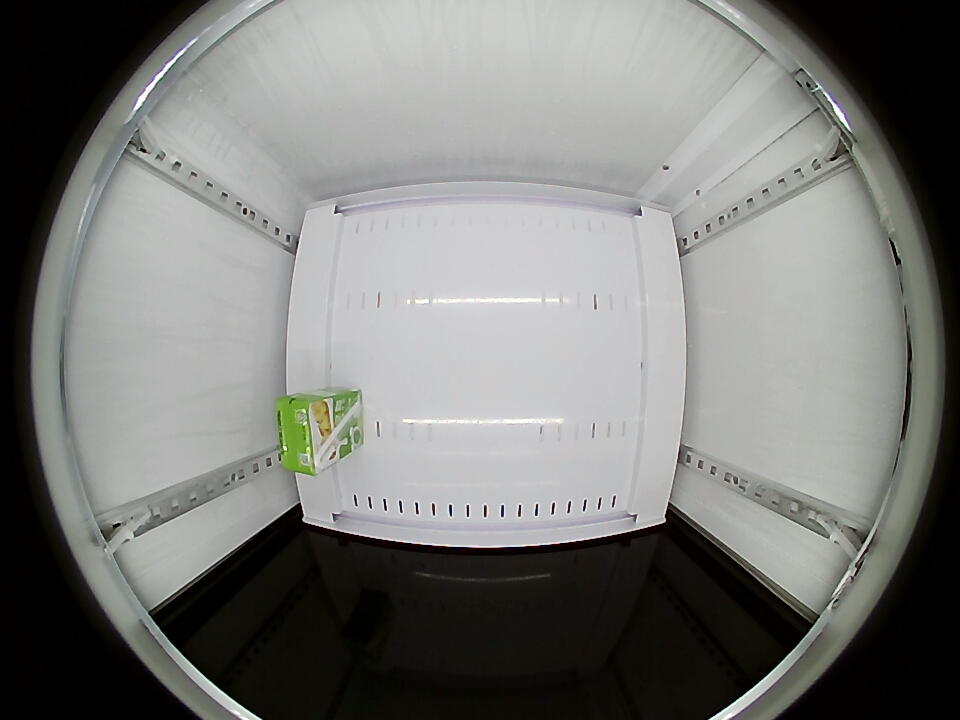mengniuzaocan: (277, 394, 337, 476)
